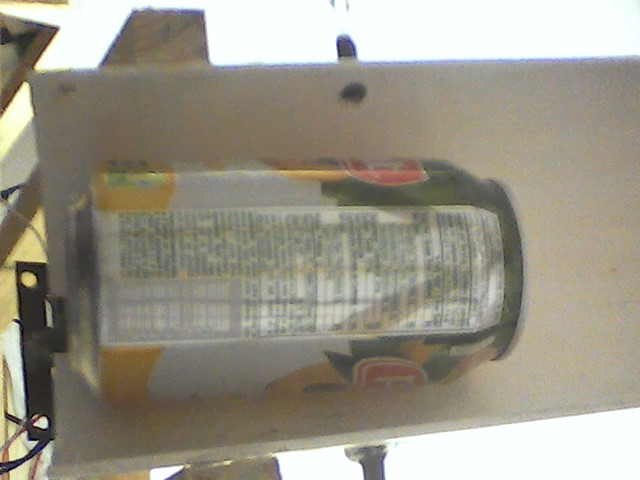lata: (59, 151, 538, 415)
